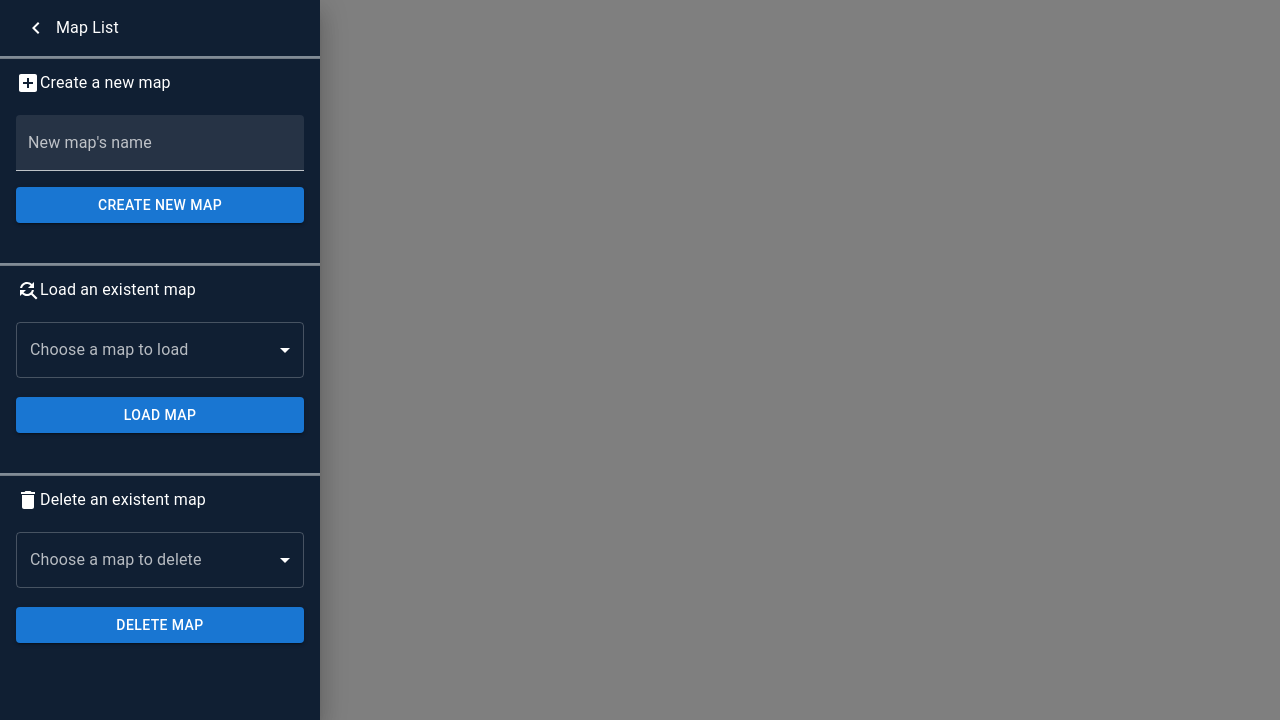
Test: check create map with invalid name
Escribimos el nombre del nuevo mapa de manera incorrecta
Type "Nombre inválido" into the field at (160, 143), box top-left (16, 115), bottom-right (304, 171)
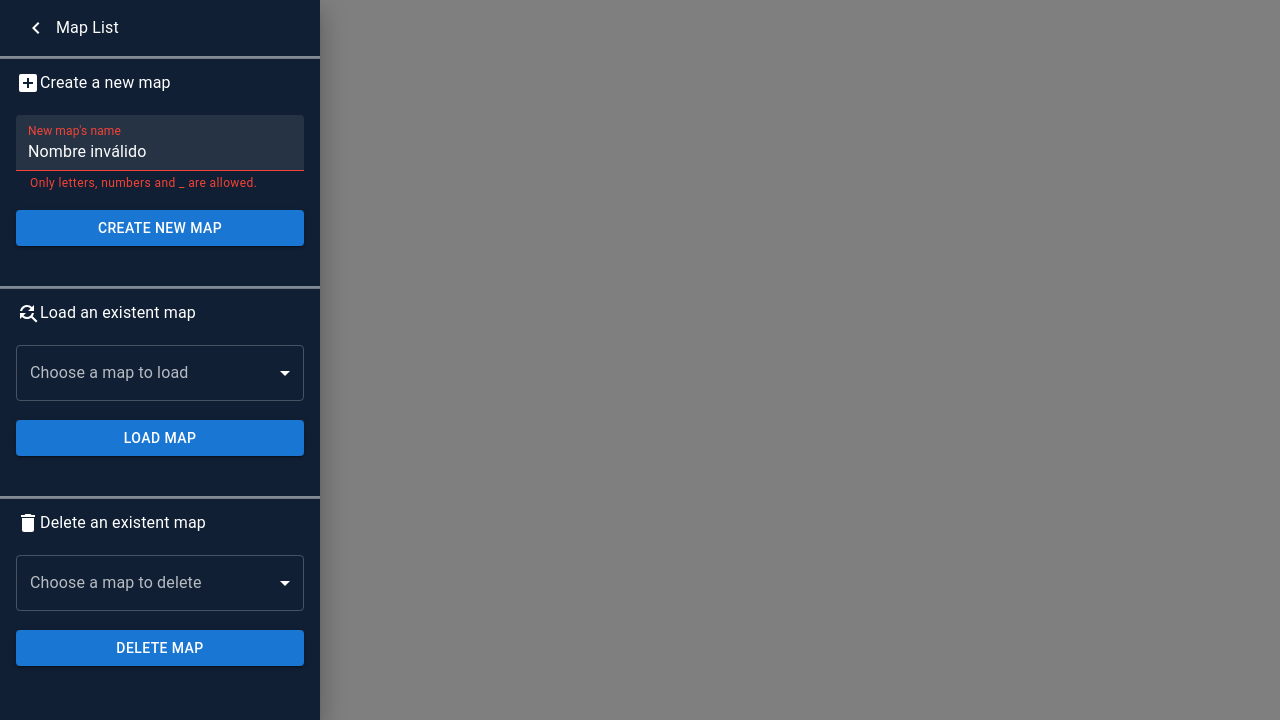
Result: the text "Only letters, numbers and _ are allowed." is shown at top-left (30, 174), bottom-right (290, 194)
Hacemos click sobre crear mapa
Click the button "Create new Map" at (160, 228), box top-left (16, 210), bottom-right (304, 246)
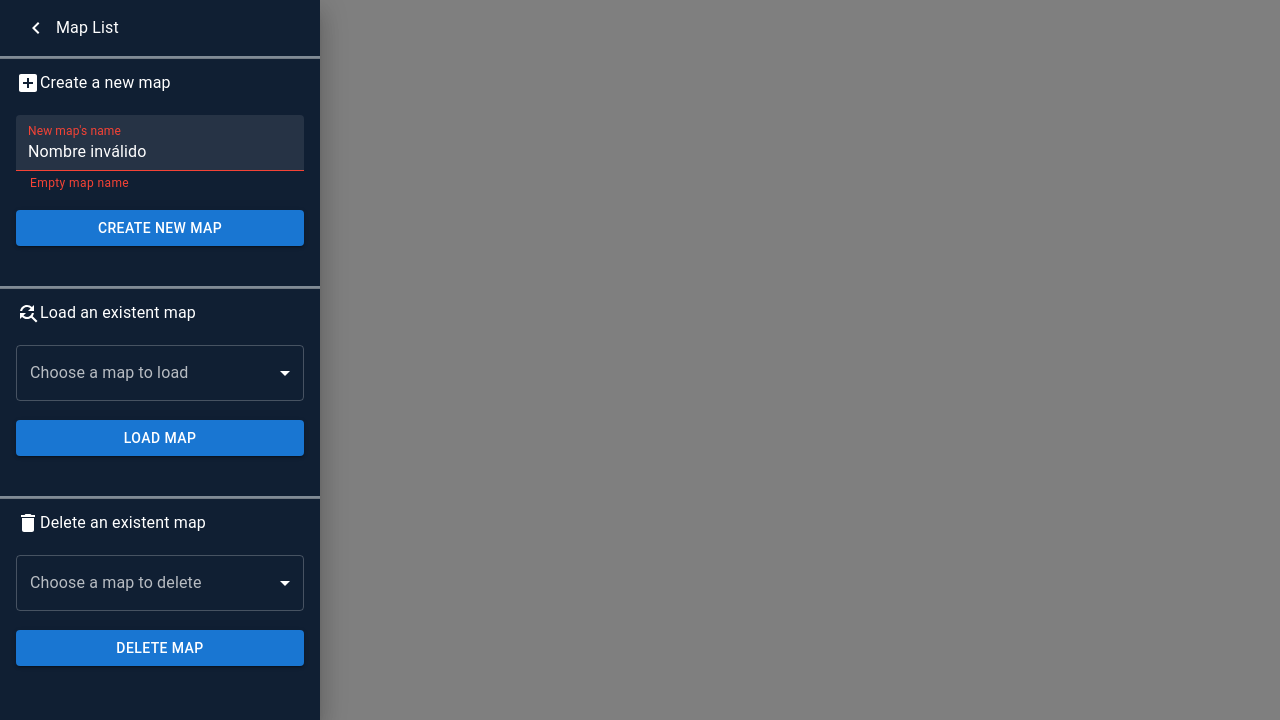
Result: the text "Empty map name" is shown at top-left (30, 176), bottom-right (129, 190)
